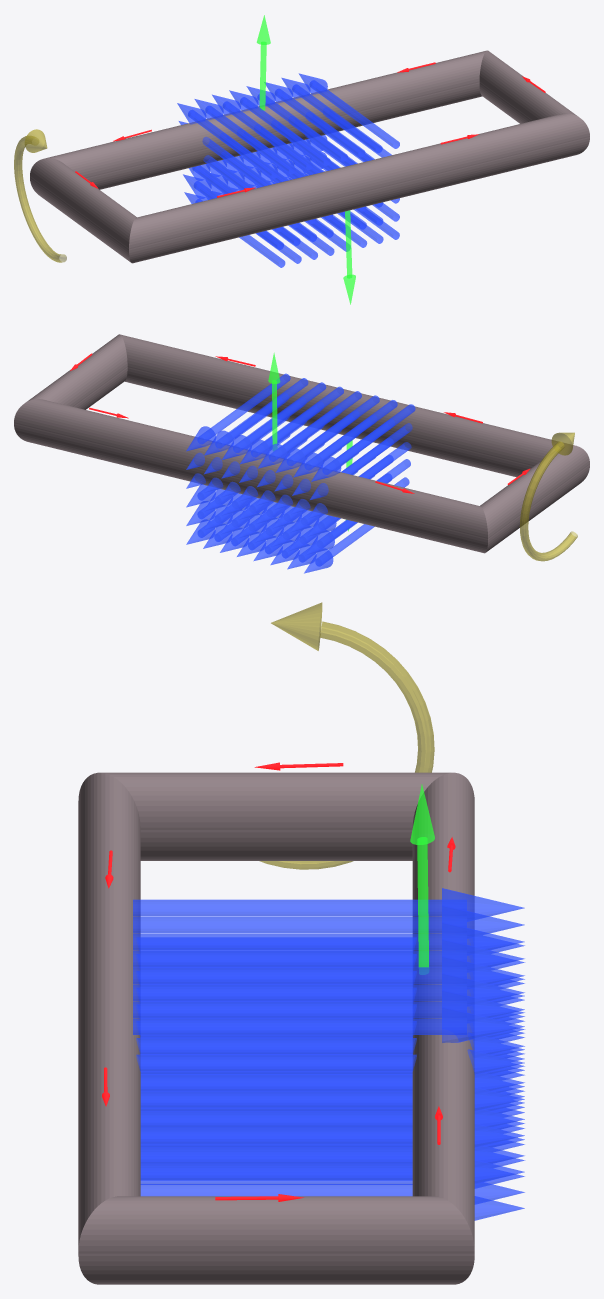
The model's file is ProyEyM.glb.
The picture shows the model from 3 angles, top to bottom: view 1: azimuth 30°, elevation 25°; view 2: azimuth 150°, elevation 25°; view 3: azimuth 270°, elevation 25°; orthographic projection. The views are drawn at different scales.
Visible parts, largest first — view 1: Espiral.001, Cylinder, Toroide.001, Cono.001, Cono.007; view 2: Espiral.001, Cylinder, Toroide.001, Cono.001; view 3: Espiral.001, Cylinder, Toroide.001, Cono.001.
Part boxes in pixels (x1,y1,x2,y2): Espiral.001: (30, 50, 589, 263); Cylinder: (177, 73, 399, 267); Toroide.001: (14, 129, 66, 262); Cono.001: (256, 15, 270, 110); Cono.007: (343, 210, 355, 304); Espiral.001: (14, 334, 589, 553); Cylinder: (186, 373, 415, 573); Toroide.001: (519, 432, 577, 561); Cono.001: (268, 352, 280, 450); Espiral.001: (78, 772, 474, 1284); Cylinder: (133, 888, 525, 1220); Toroide.001: (259, 602, 434, 869); Cono.001: (410, 784, 434, 974).
Bounding box in the file's own units: 6.98 × 3.1 × 2.68.
